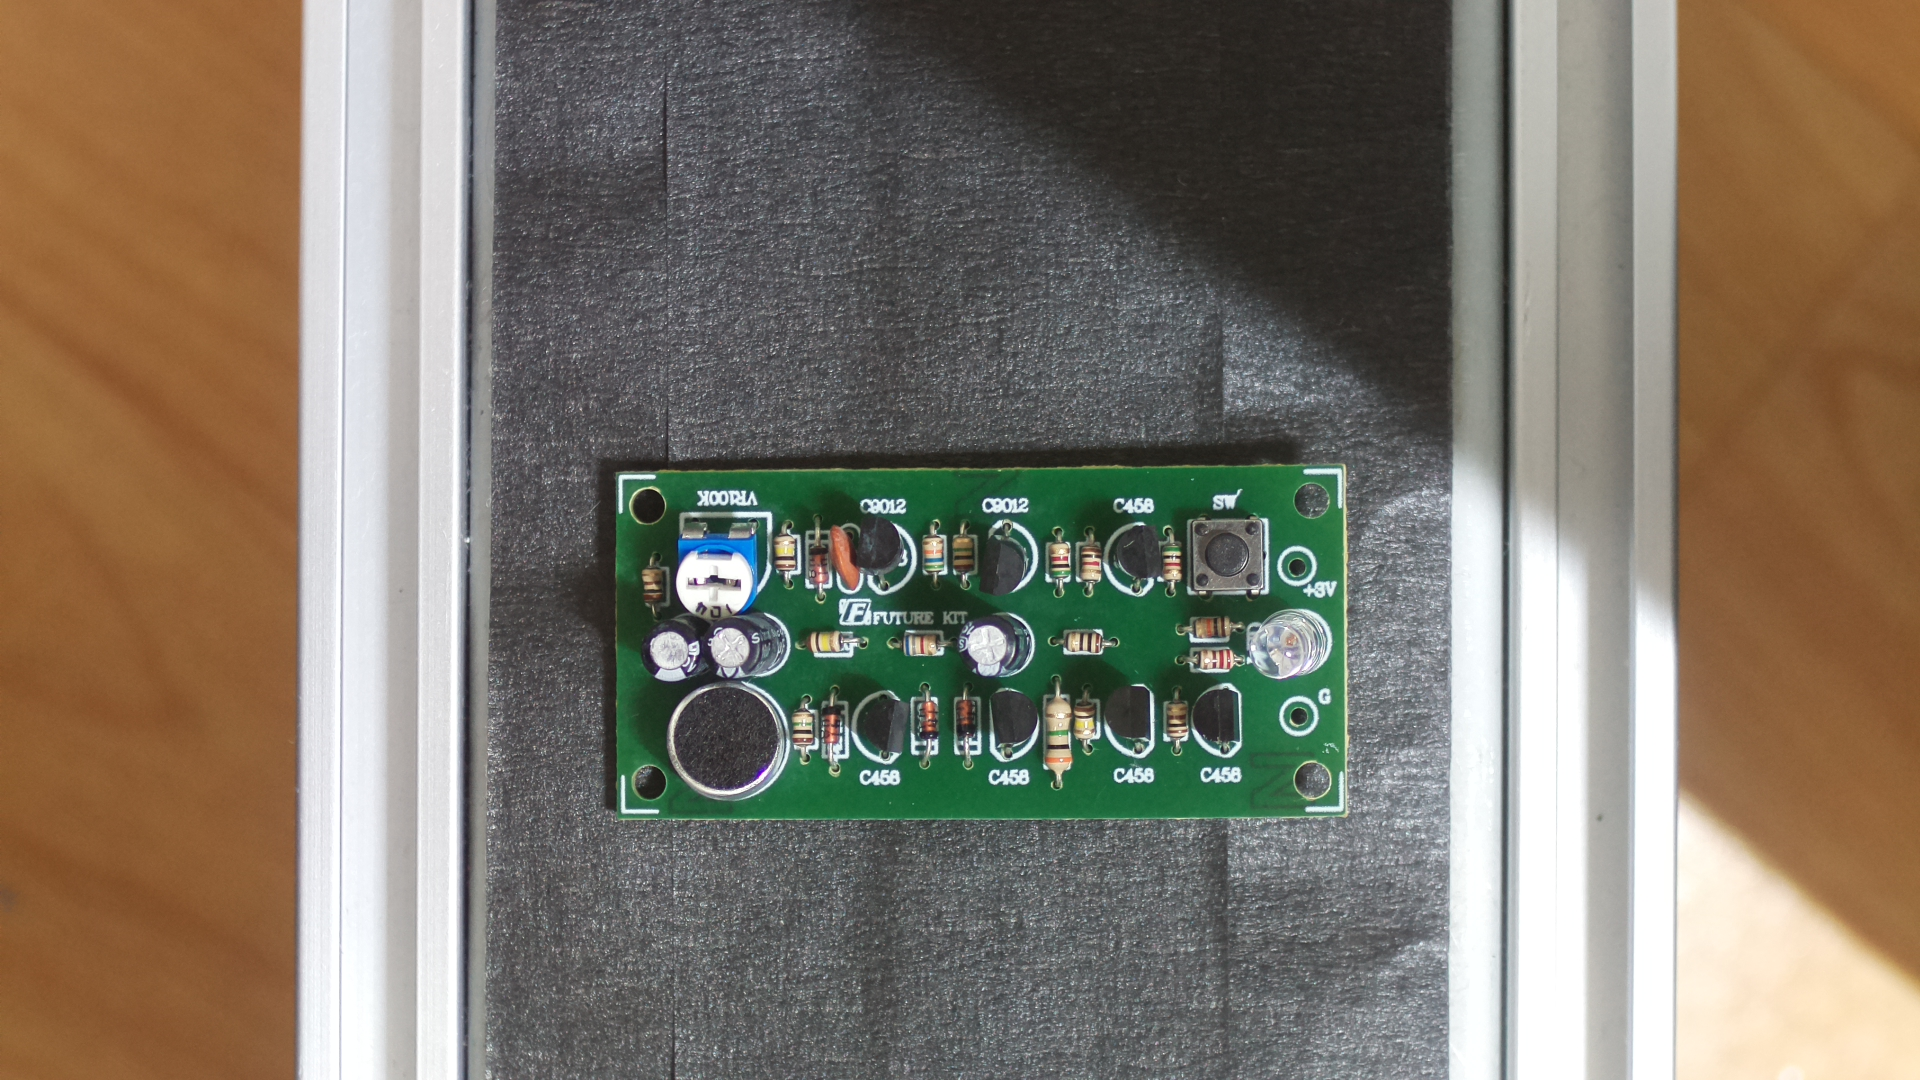A_Normal: (611, 454, 1361, 819)
